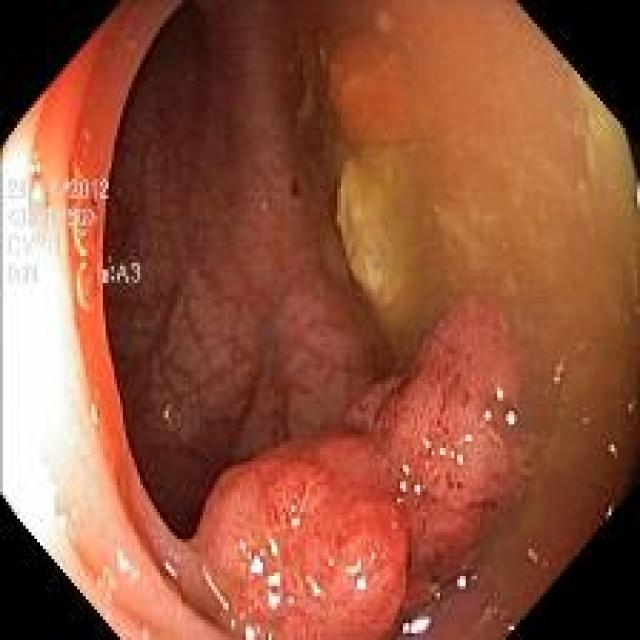Polyps: (163, 301, 526, 639)
